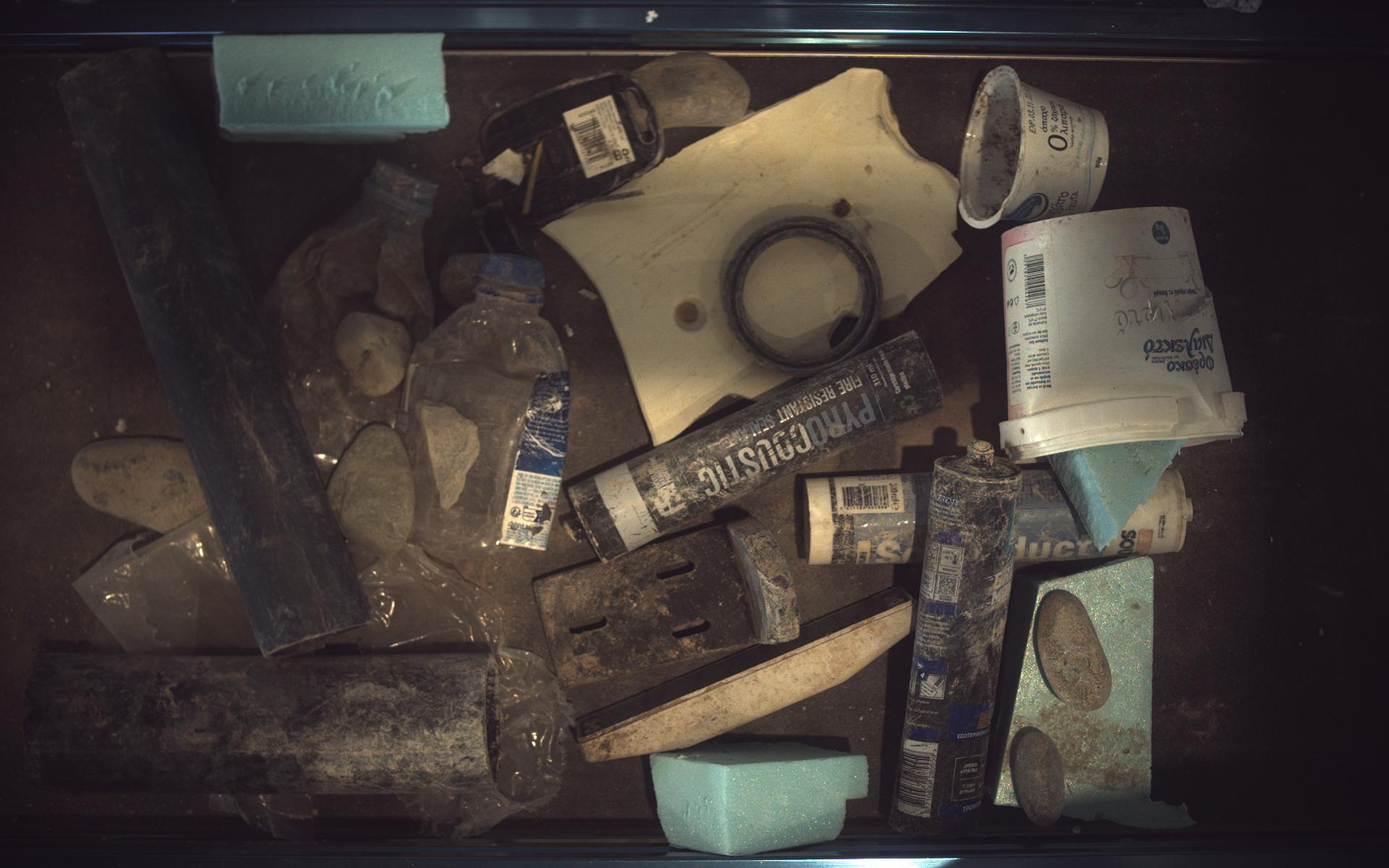foam: (992, 558, 1197, 830), (213, 33, 449, 141), (650, 744, 870, 857), (1050, 440, 1189, 551)
general_w: (1003, 207, 1249, 461), (266, 160, 437, 480), (398, 255, 569, 559), (404, 648, 569, 840), (72, 514, 256, 653), (962, 64, 1111, 228), (357, 544, 504, 650), (208, 796, 317, 843)
pipes: (57, 47, 368, 657), (24, 654, 493, 795)
plastic: (546, 68, 962, 444), (566, 332, 944, 561), (576, 589, 914, 764), (892, 441, 1024, 838), (535, 518, 801, 687), (457, 71, 665, 255), (725, 216, 884, 375), (1017, 469, 1195, 567), (805, 473, 933, 566)
stone: (70, 438, 207, 534), (326, 423, 415, 558), (1037, 590, 1113, 712), (632, 51, 752, 128), (417, 401, 480, 510), (334, 311, 412, 397), (1012, 728, 1067, 827), (439, 253, 486, 307)
